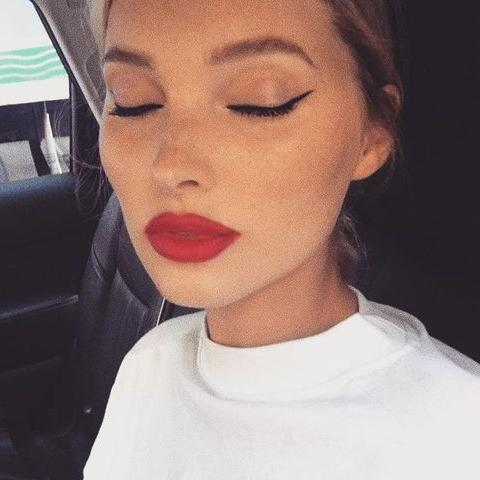closed: (85, 30, 326, 136)
